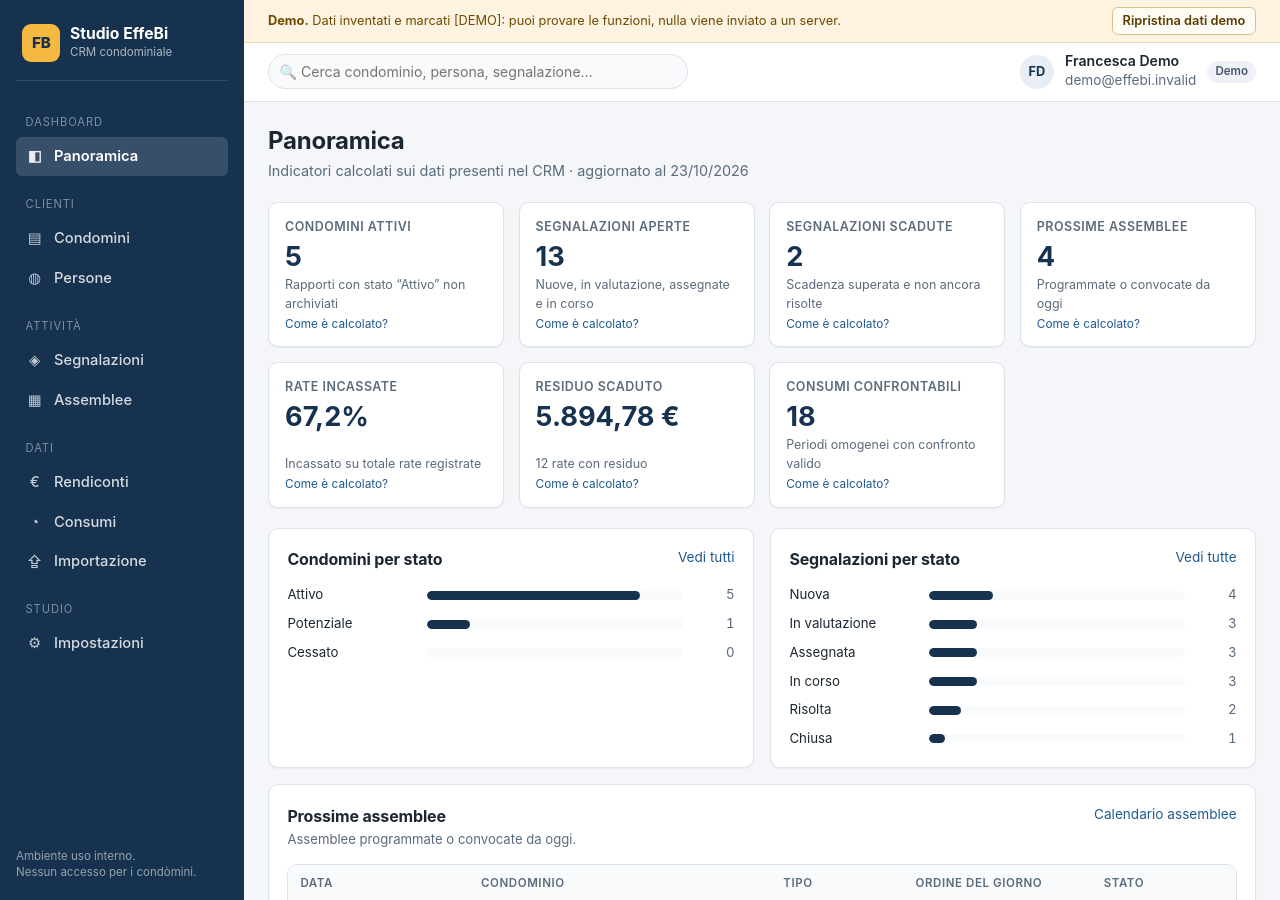
Scenario: Demo statica: interfaccia › permette di aprire l'elenco dei condomìni e la scheda di dettaglio
Click the link "▤ Condomìni" at (79, 238), box [28,229,130,247]
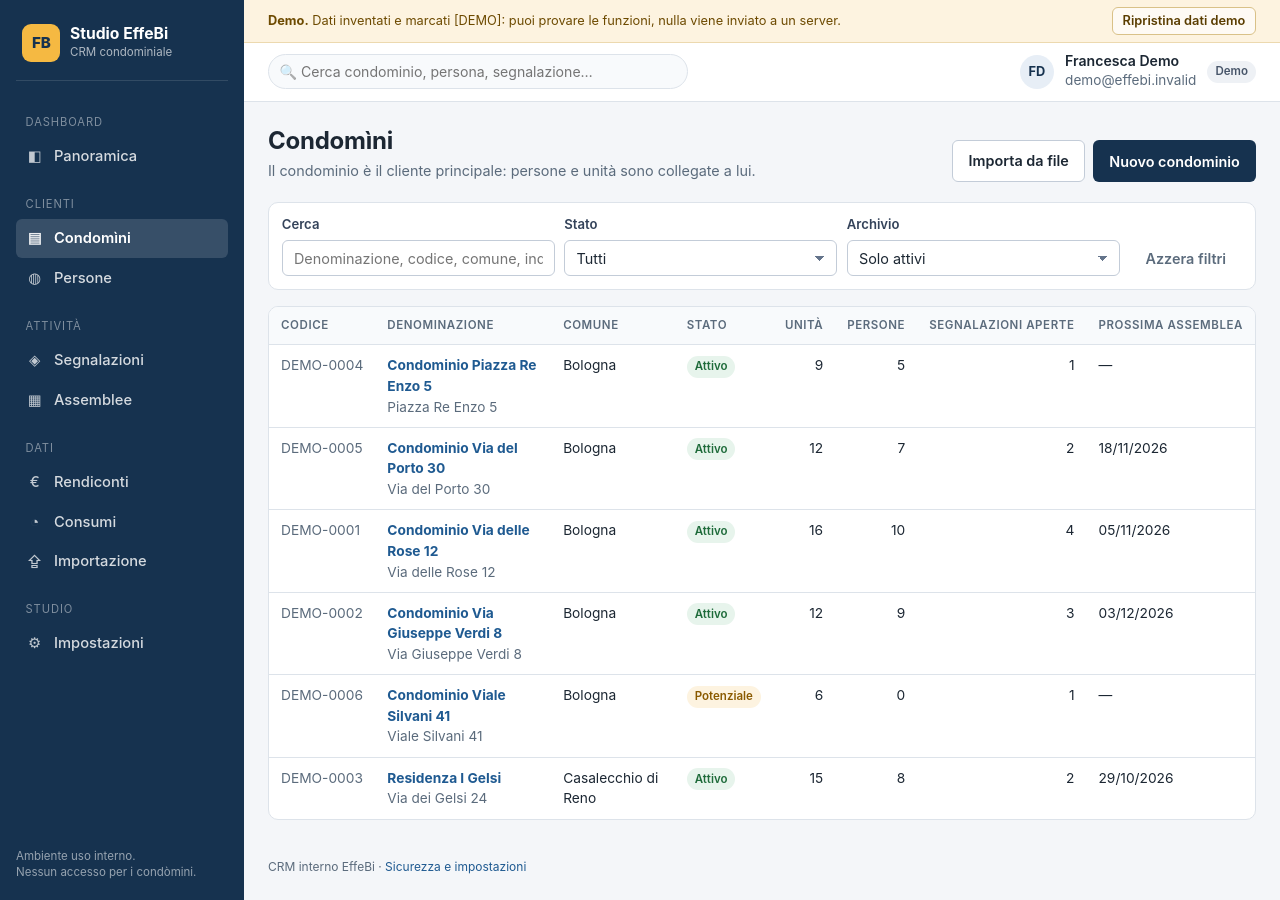
Expected: the text "Condominio Via delle Rose 12" is shown, [387,522,530,559]
Expected: the text "DEMO-0001" is shown, [269,510,375,592]
